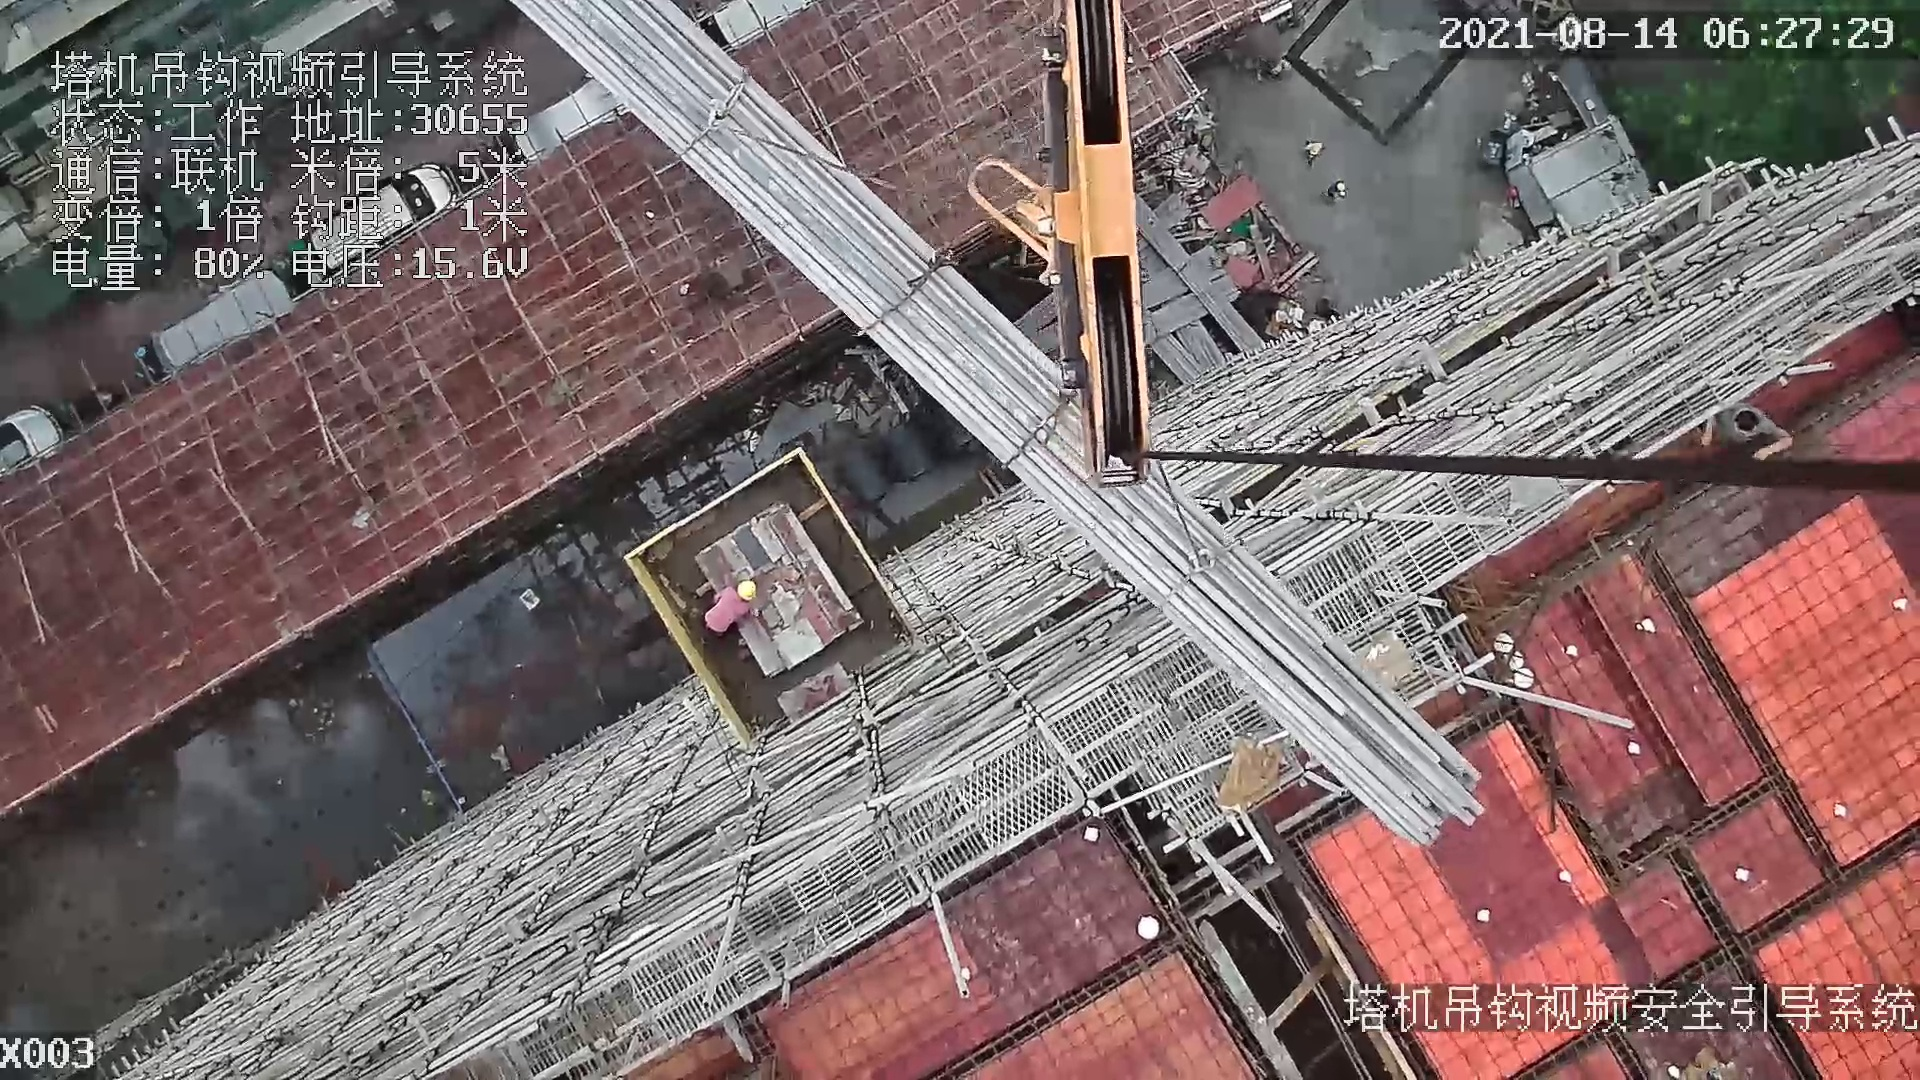helmet: (738, 577, 771, 608)
hook: (1045, 1, 1162, 492)
person: (1699, 397, 1798, 460), (703, 577, 757, 650)
